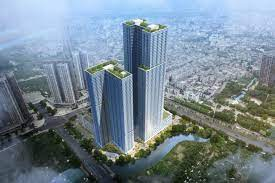high_rise_building: (83, 17, 171, 147)
